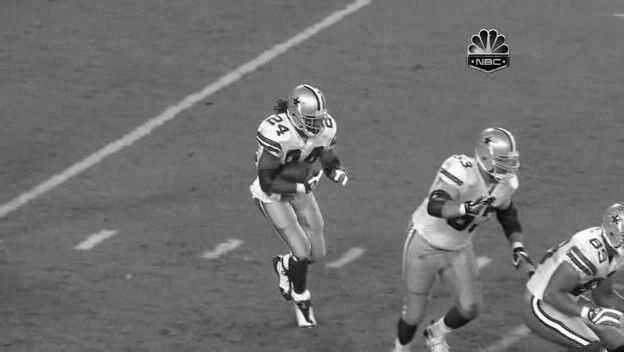person: (291, 86, 327, 131), (290, 86, 326, 131), (292, 86, 328, 131), (291, 85, 327, 130), (291, 87, 327, 132)
target_negative: (177, 21, 506, 327), (563, 222, 616, 312), (352, 270, 407, 313), (503, 325, 614, 342), (159, 228, 302, 238)
